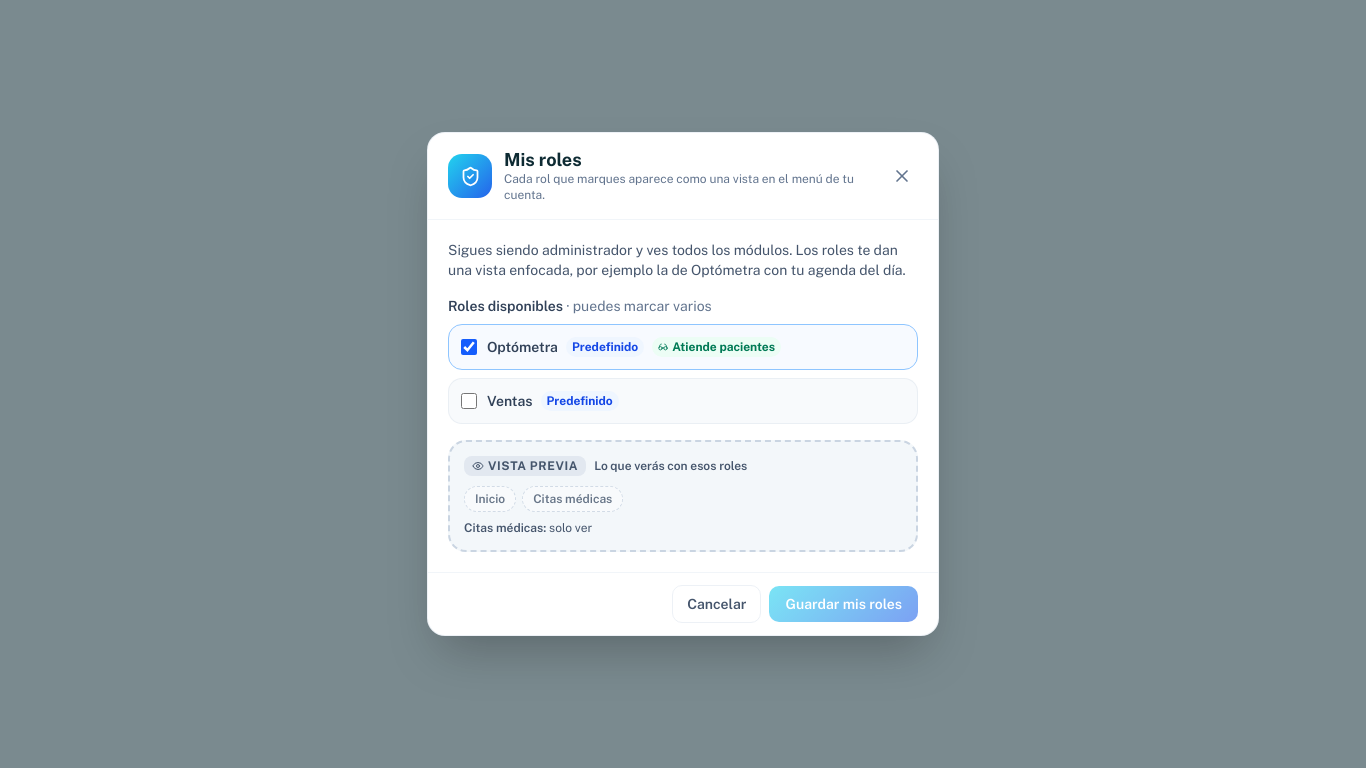
Scenario: ModalMisRoles › muestra el error que devuelve la base
Click the checkbox labelled "Ventas Predefinido" at (469, 401), box 461,393 -> 477,409
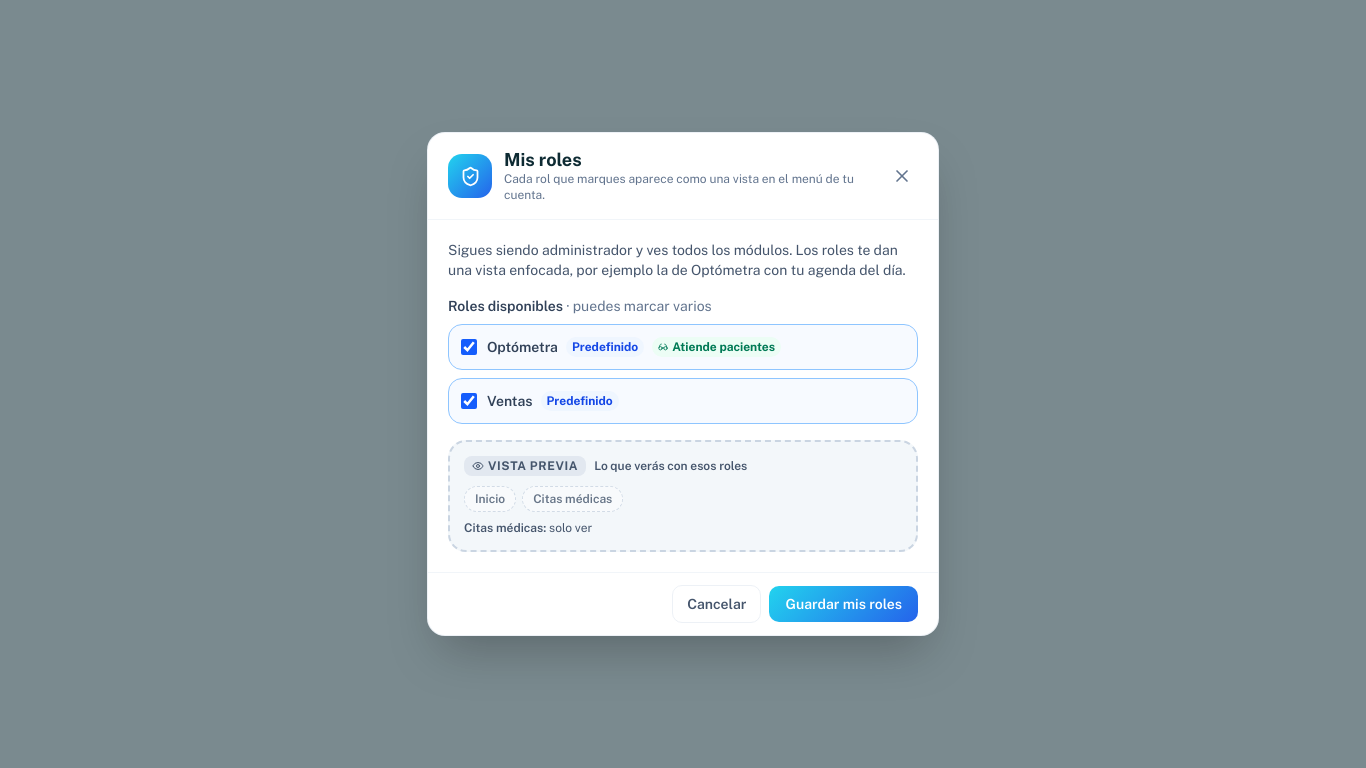
Click the button "Guardar mis roles" at (844, 604), box 770,586 -> 918,622
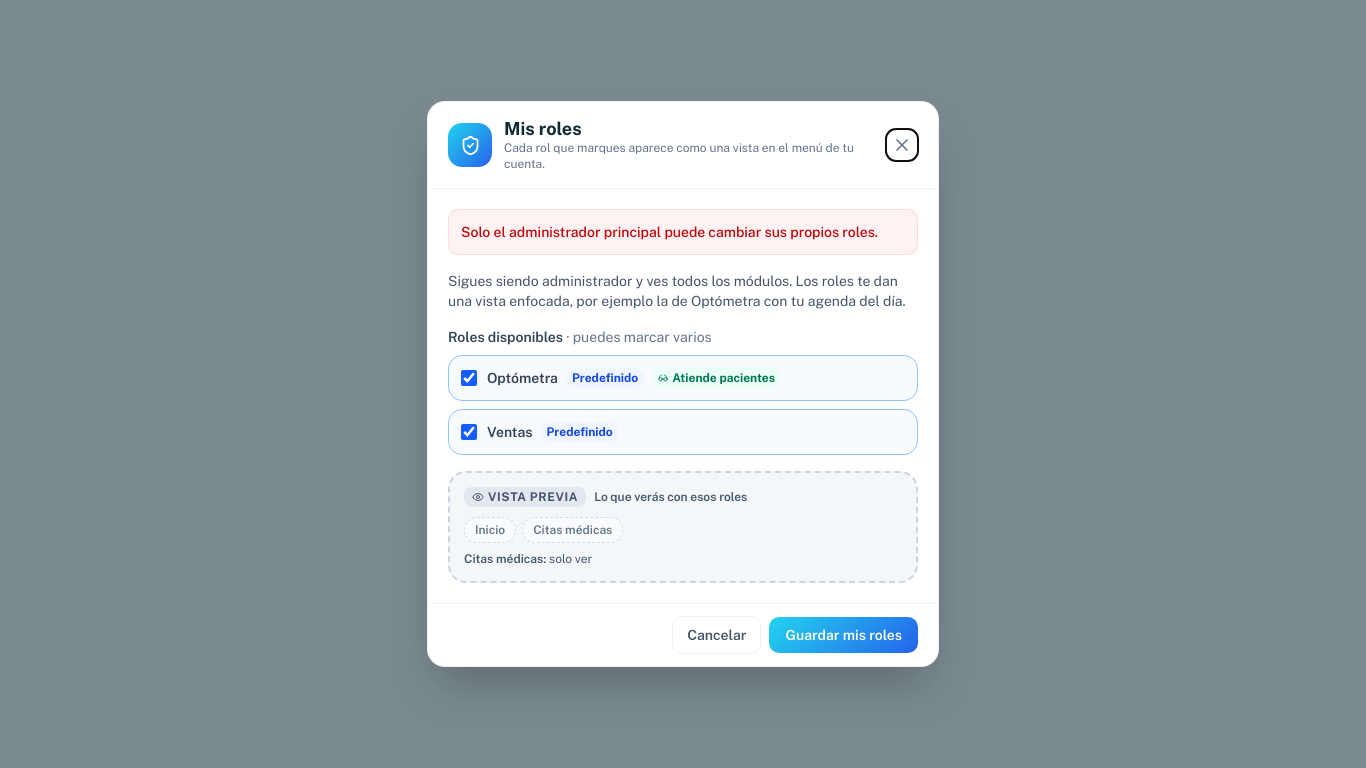
Result: the message shows "administrador principal" at 461,224 -> 878,240
